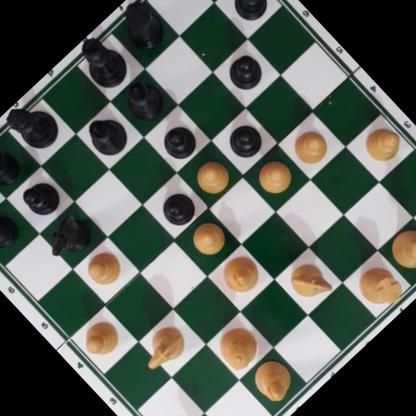black-bishop: (116, 73, 171, 128), (80, 108, 134, 162)
black-king: (70, 29, 136, 96)
black-knight: (38, 208, 98, 267), (0, 138, 25, 201)
black-pawn: (220, 48, 269, 97), (155, 118, 203, 166), (16, 175, 64, 223), (154, 184, 201, 231), (221, 117, 268, 164), (226, 0, 277, 28), (0, 207, 24, 257)
black-queen: (0, 92, 67, 161)
black-rook: (110, 0, 174, 58)
white-bishop: (245, 353, 299, 407), (214, 247, 266, 299)
white-king: (383, 218, 416, 283)
white-knight: (134, 319, 193, 377), (283, 255, 337, 309)
white-pawn: (357, 118, 408, 170), (284, 122, 334, 172), (76, 314, 125, 363), (79, 245, 127, 293), (188, 153, 235, 200), (250, 153, 297, 200), (184, 215, 231, 262)
white-queen: (209, 318, 266, 375)
white-rook: (350, 256, 410, 316)
